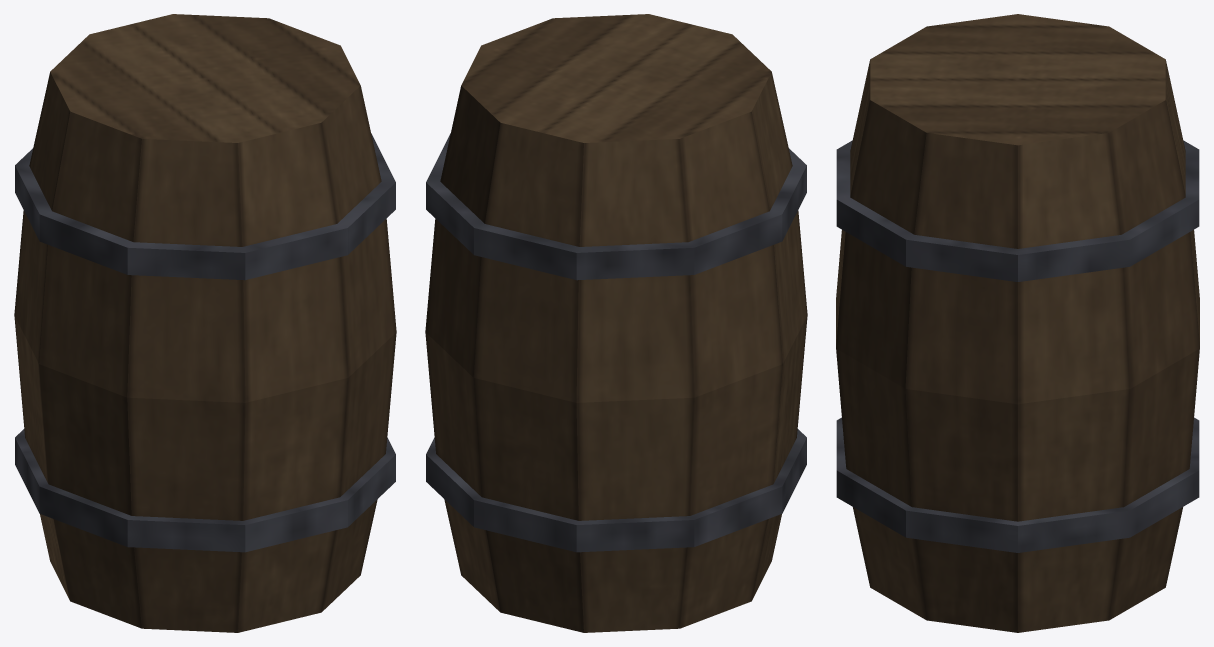
The model's file is barrel_01.glb.
3 views of the same model, side by side, from view 1: azimuth 30°, elevation 25°; view 2: azimuth 150°, elevation 25°; view 3: azimuth 270°, elevation 25° (orthographic).
Visible parts, largest first — view 1: barrel_01; view 2: barrel_01; view 3: barrel_01.
Part boxes in pixels (bbox=[...]): barrel_01: bbox=[14, 14, 396, 632]; barrel_01: bbox=[425, 14, 807, 632]; barrel_01: bbox=[836, 14, 1199, 632].
Size of the model in its own units: 0.64 by 0.9 by 0.6087.
2 materials, 2 textured.
